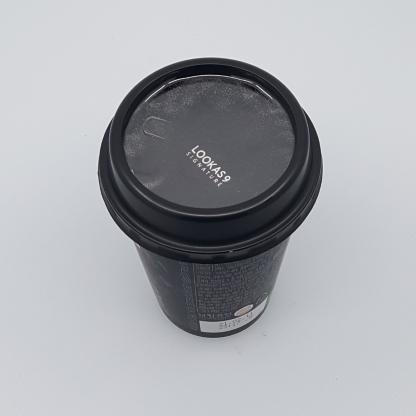-------------: (97, 57, 323, 339)
